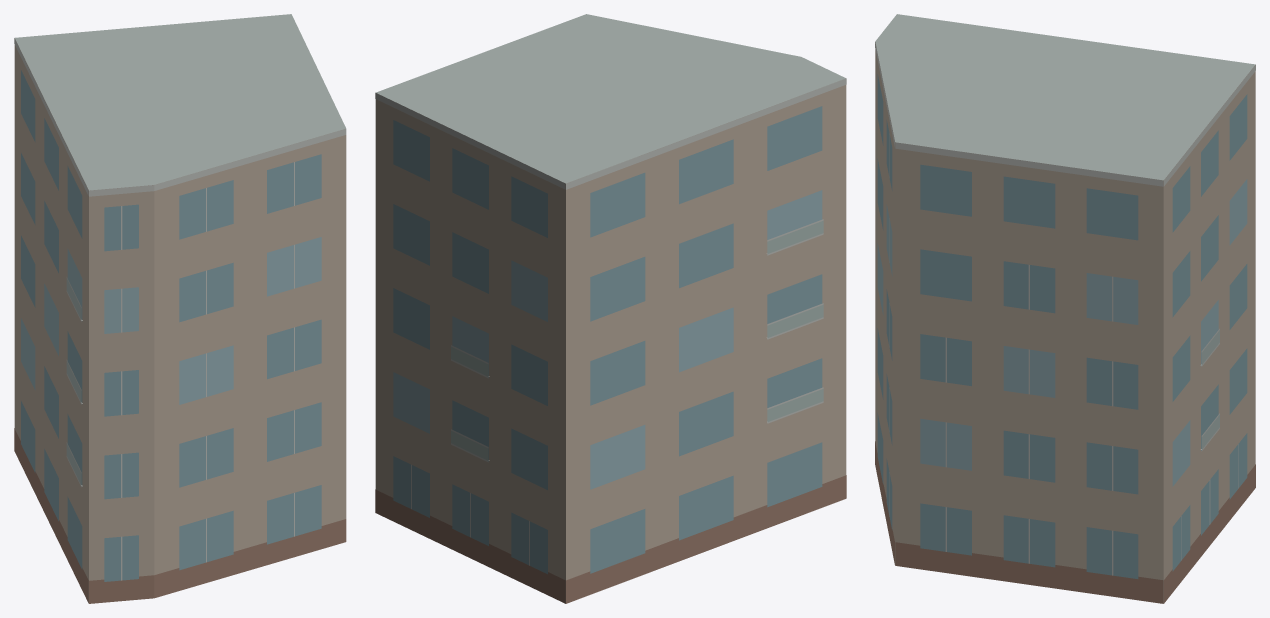
Rendered from survey-upis-33009254.glb.
3 renders of one model, left to right at view 1: azimuth 30°, elevation 25°; view 2: azimuth 150°, elevation 25°; view 3: azimuth 270°, elevation 25°, orthographic. The views are drawn at different scales.
Parts seen in each view (by area): view 1: survey-upis-33009254.tmp; view 2: survey-upis-33009254.tmp; view 3: survey-upis-33009254.tmp.
Part boxes in pixels (left/top/right/bottom): survey-upis-33009254.tmp: left=14, top=14, right=346, bottom=603; survey-upis-33009254.tmp: left=375, top=14, right=846, bottom=603; survey-upis-33009254.tmp: left=875, top=14, right=1255, bottom=603.
Bounding box in the file's own units: 13.7 × 16.25 × 13.24.
